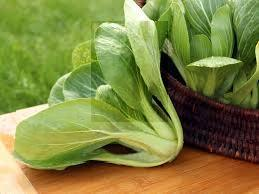Healthy-Pechay: (43, 39, 186, 166), (156, 0, 259, 92)
